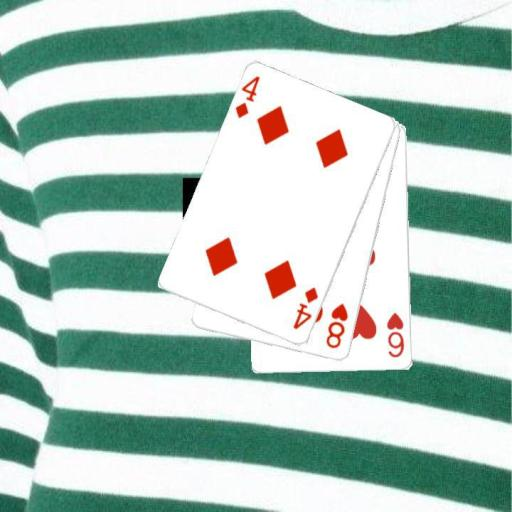4D: (232, 73, 262, 121), (290, 285, 320, 332)
6H: (384, 310, 406, 360)
8H: (323, 300, 350, 351)
